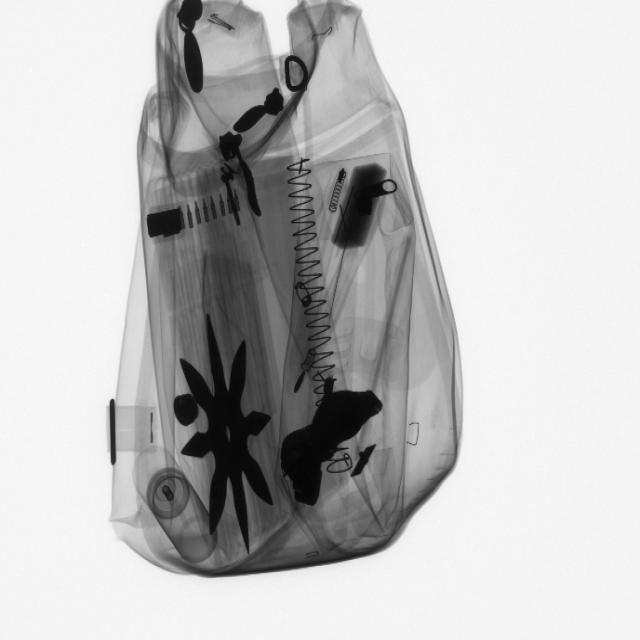SHURIKEN: (180, 315, 281, 556)
